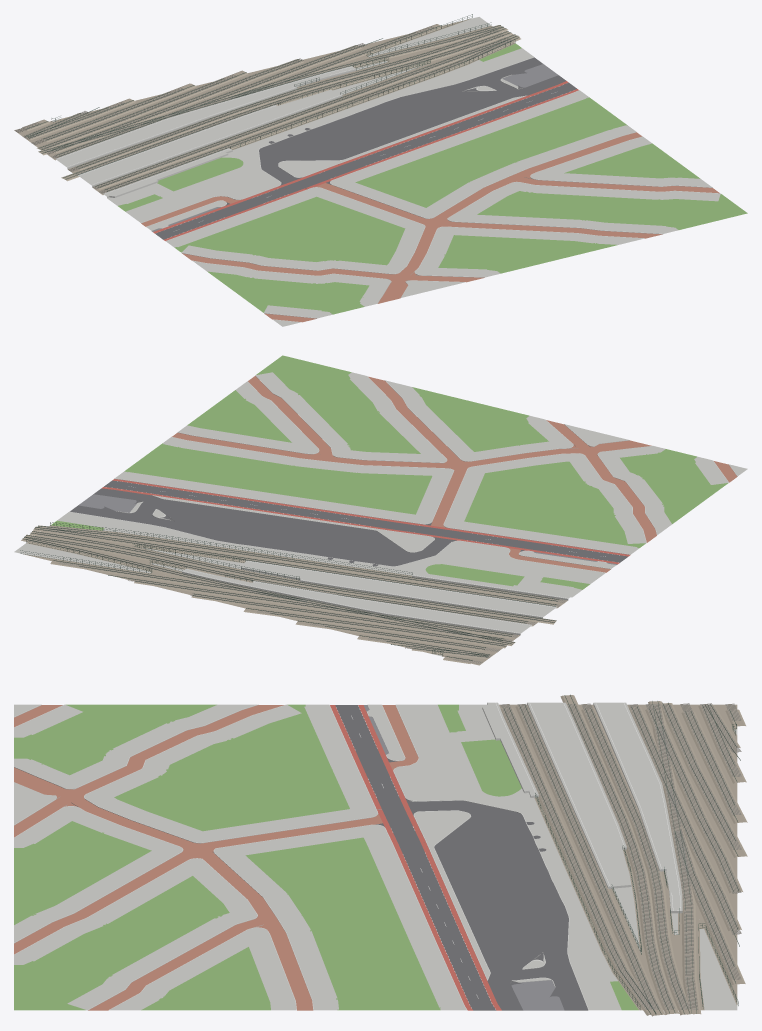
The model's file is ground_7_6.glb.
3 views of the same model, one above another, from view 1: azimuth 30°, elevation 25°; view 2: azimuth 150°, elevation 25°; view 3: azimuth 270°, elevation 25° (orthographic). The views are drawn at different scales.
Visible parts, largest first — view 1: ground_7_6; view 2: ground_7_6; view 3: ground_7_6.
Boxes of the visible parts, <box> form: ground_7_6: <box>14,14,747,326</box>; ground_7_6: <box>14,355,747,665</box>; ground_7_6: <box>14,694,747,1016</box>.
Size of the model in its own units: 210 by 1.67 by 203.
